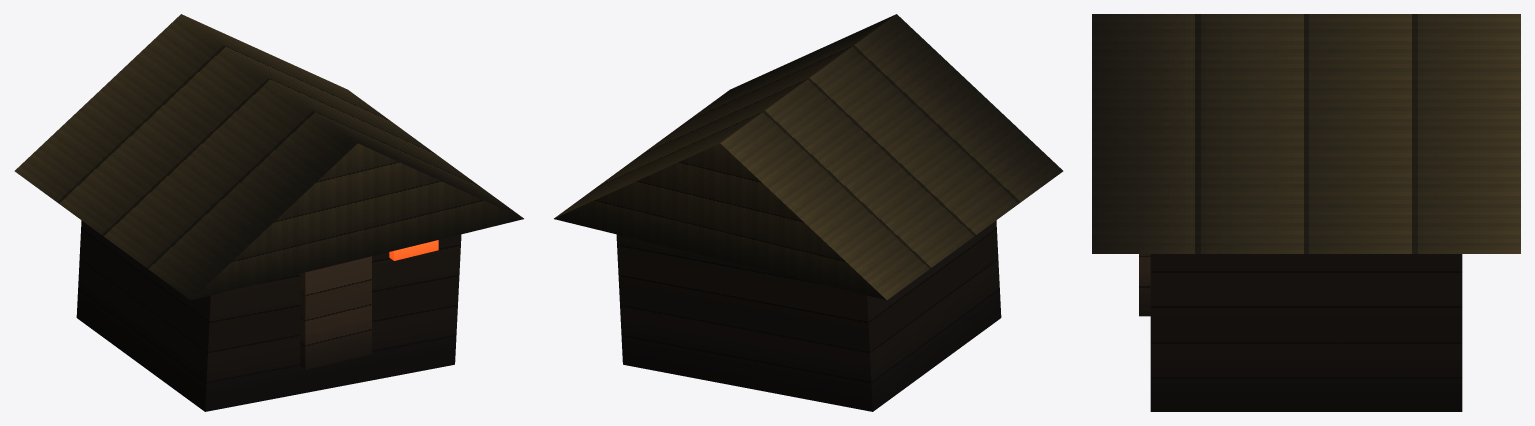
File: hovel.glb
3 views of the same model, side by side, from view 1: azimuth 30°, elevation 25°; view 2: azimuth 150°, elevation 25°; view 3: azimuth 270°, elevation 25° (orthographic). The views are drawn at different scales.
Visible parts, largest first — view 1: hovel; view 2: hovel; view 3: hovel.
Boxes of the visible parts, <box> form: hovel: <box>14,14,523,411</box>; hovel: <box>554,14,1063,411</box>; hovel: <box>1092,14,1520,411</box>.
Size of the model in its own units: 1.2 by 0.9232 by 1.1.
Materials: 1 (1 with a texture image).
